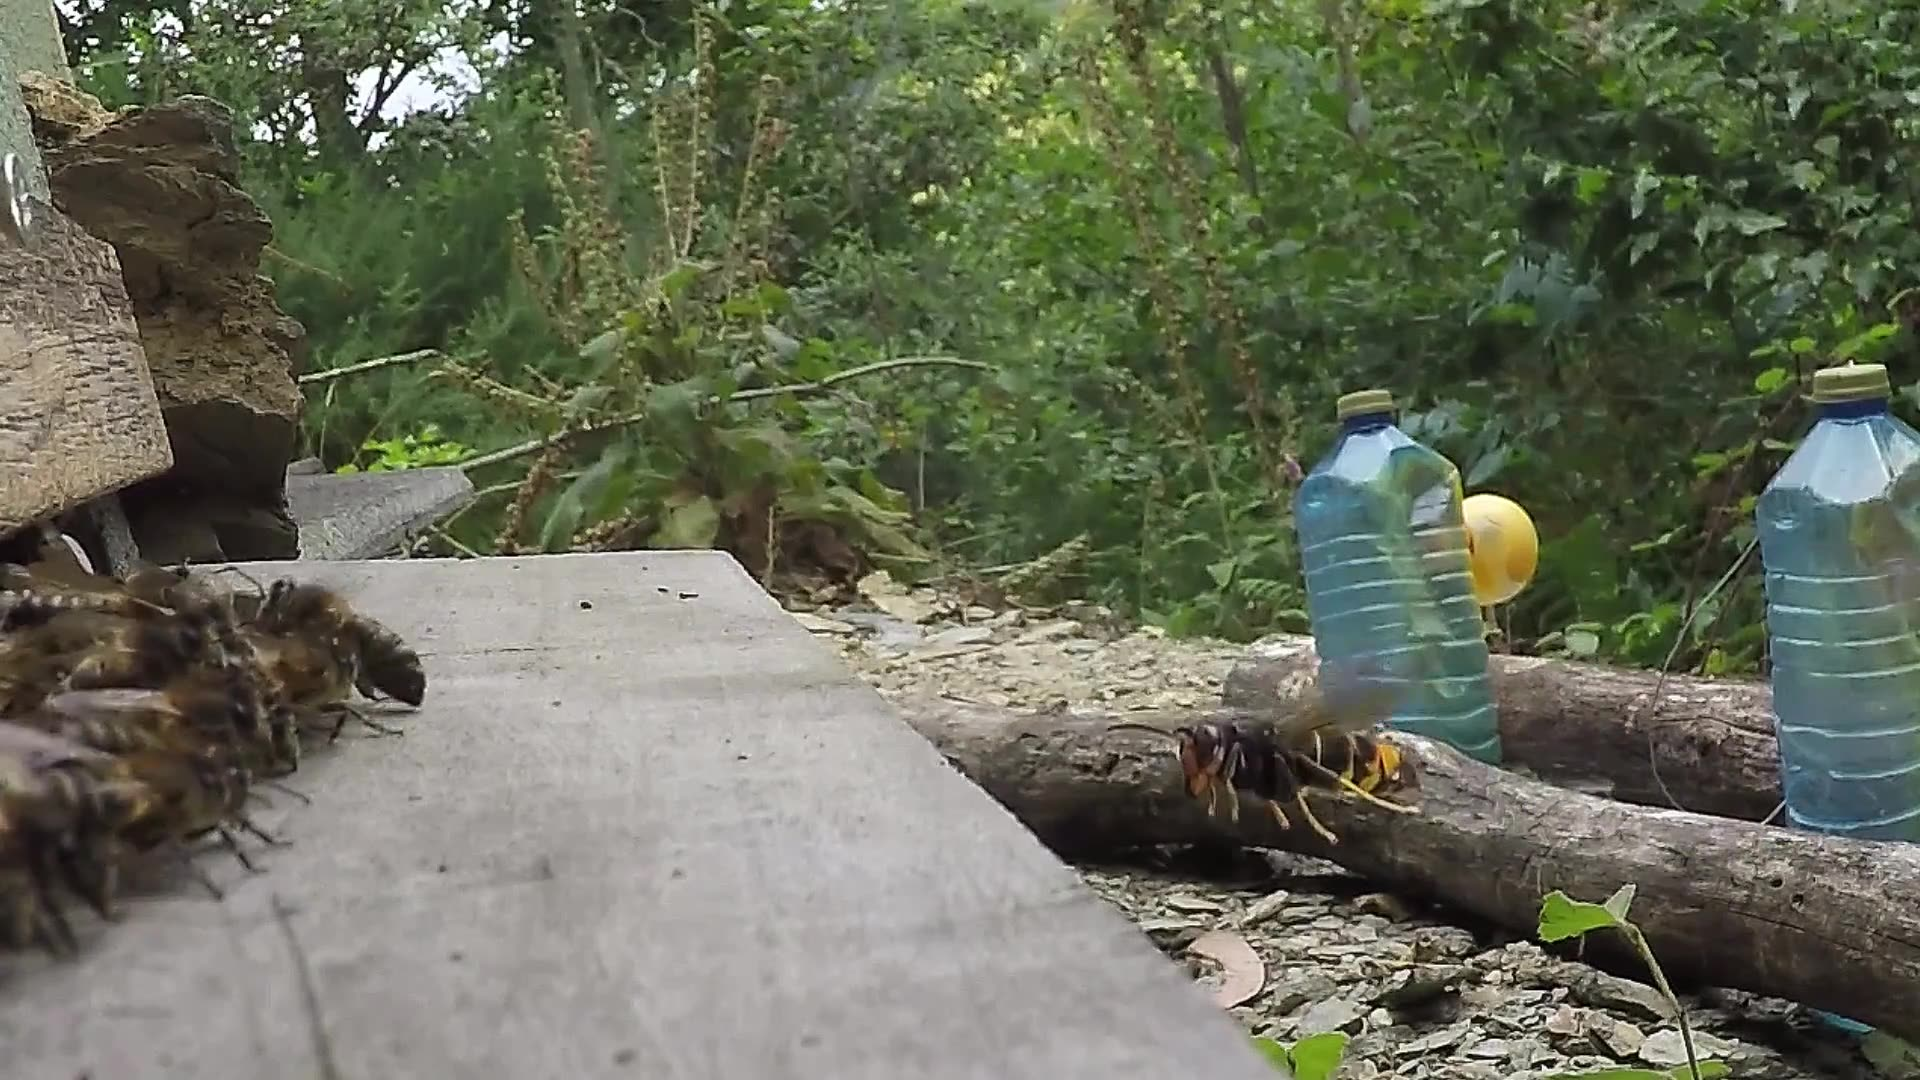bee: (1, 535, 258, 961), (244, 563, 438, 723)
hornet: (1164, 698, 1425, 837)
